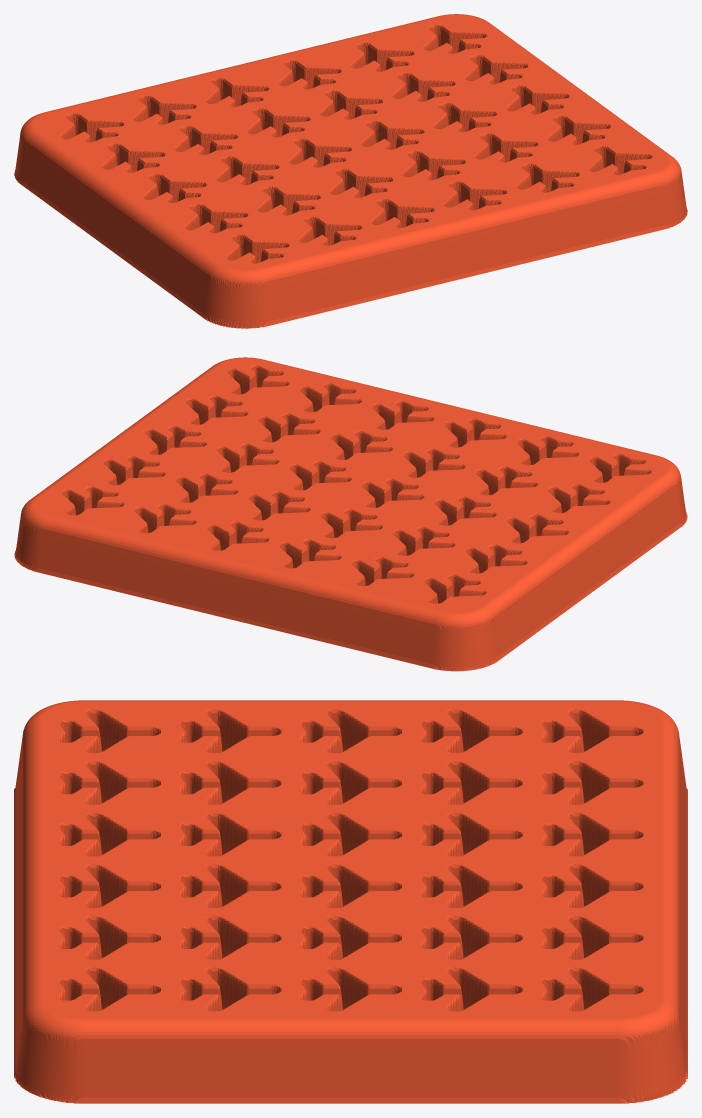
Rendered from mold.glb.
The picture shows the model from 3 angles, top to bottom: view 1: azimuth 30°, elevation 25°; view 2: azimuth 150°, elevation 25°; view 3: azimuth 270°, elevation 25°; orthographic projection. The views are drawn at different scales.
Visible parts, largest first — view 1: geometry_0; view 2: geometry_0; view 3: geometry_0.
Boxes of the visible parts, x1,y1,x2,y2 form: geometry_0: (14,14,687,328); geometry_0: (14,357,687,671); geometry_0: (14,700,687,1103).
Bounding box in the file's own units: 0.104 × 0.0105 × 0.0872.
